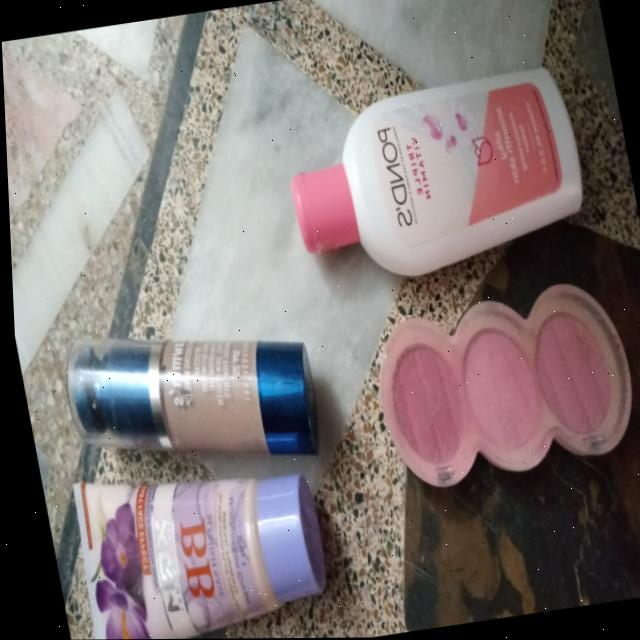bb cream: (55, 431, 338, 640), (44, 300, 323, 497)
blush: (345, 277, 640, 497)
lotion: (258, 59, 606, 303)
